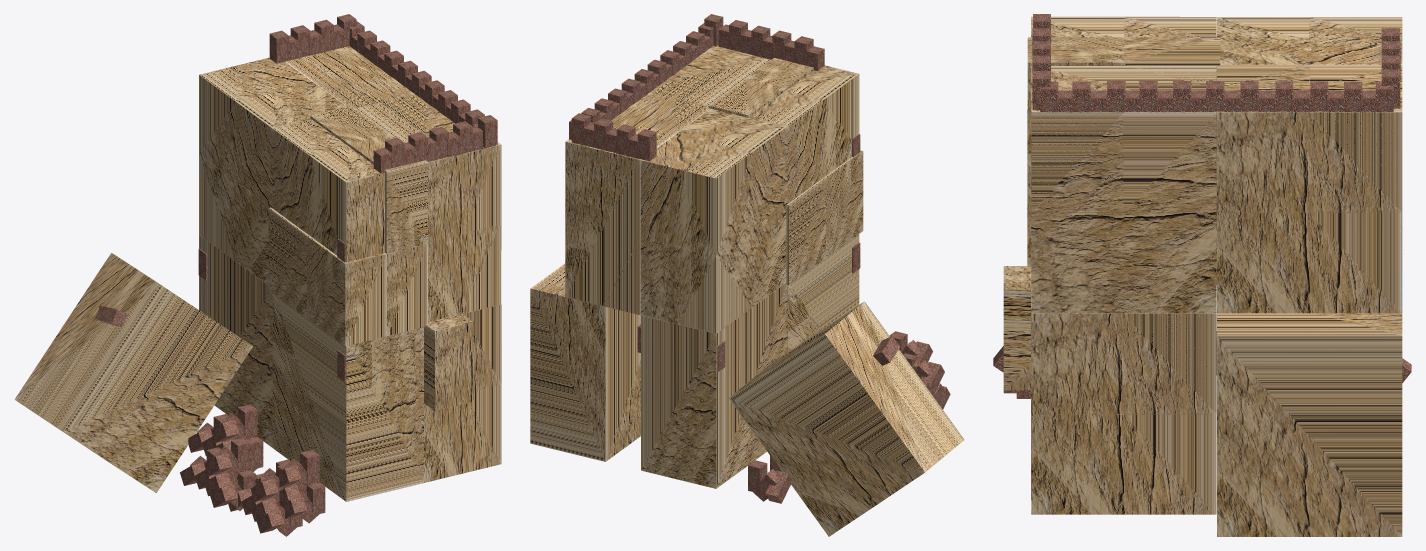
File: Sumerian_wall_semidemolished.fbx
3 renders of one model, left to right at view 1: azimuth 30°, elevation 25°; view 2: azimuth 150°, elevation 25°; view 3: azimuth 270°, elevation 25°, orthographic. The views are drawn at different scales.
Visible parts, largest first — view 1: Cube.064_cell.001, Cube.064_cell.004, Cube.064_cell.006, Cube.064_cell.003_cell.003, Cube.064_cell.003_cell.009, Cube.064_cell, Cube.064_cell.003_cell, Cube.064_cell.007_cell, Cube.064_cell.001_cell.001, Cube.064_cell.001_cell, Cube.064_cell.003_cell.012, Cube.064_cell.003_cell.014 (+18 smaller); view 2: Cube.064_cell.001, Cube.064_cell.006, Cube.064_cell.005, Cube.064_cell.002, Cube.064_cell.001_cell.001, Cube.064_cell.001_cell.003, Cube.064_cell.004, Cube.064_cell.003_cell, Cube.064_cell.001_cell.006, Cube.064_cell.001_cell, Cube.064_cell.003_cell.003, Cube.064_cell.003_cell.010 (+14 smaller); view 3: Cube.064_cell.005, Cube.064_cell.002, Cube.064_cell.002_cell.002, Cube.064_cell_cell, Cube.064_cell.007_cell.005, Cube.064_cell_cell.003, Cube.064_cell_cell.002, Cube.064_cell.007_cell.004, Cube.064_cell.007_cell.002, Cube.064_cell_cell.001, Cube.064_cell.002_cell.007, Cube.064_cell.002_cell (+30 smaller).
Part boxes in pixels (x1,y1,x2,y2): Cube.064_cell.001: [14, 253, 252, 493]; Cube.064_cell.004: [272, 294, 423, 501]; Cube.064_cell.006: [199, 234, 272, 447]; Cube.064_cell.003_cell.003: [309, 146, 384, 262]; Cube.064_cell.003_cell.009: [307, 235, 386, 346]; Cube.064_cell: [387, 94, 501, 322]; Cube.064_cell.003_cell: [272, 119, 347, 234]; Cube.064_cell.007_cell: [424, 314, 473, 410]; Cube.064_cell.001_cell.001: [199, 65, 273, 181]; Cube.064_cell.001_cell: [236, 92, 310, 207]; Cube.064_cell.003_cell.012: [348, 133, 427, 253]; Cube.064_cell.003_cell.014: [385, 244, 427, 336]; Cube.064_cell.001: [729, 301, 964, 536]; Cube.064_cell.006: [641, 283, 787, 488]; Cube.064_cell.005: [530, 263, 640, 461]; Cube.064_cell.002: [565, 98, 674, 305]; Cube.064_cell.001_cell.001: [678, 143, 751, 255]; Cube.064_cell.001_cell.003: [678, 230, 751, 333]; Cube.064_cell.004: [787, 234, 859, 352]; Cube.064_cell.003_cell: [750, 91, 823, 203]; Cube.064_cell.001_cell.006: [641, 134, 713, 246]; Cube.064_cell.001_cell: [714, 117, 787, 229]; Cube.064_cell.003_cell.003: [786, 65, 859, 176]; Cube.064_cell.003_cell.010: [786, 177, 825, 285]; Cube.064_cell.005: [1217, 313, 1402, 536]; Cube.064_cell.002: [1217, 88, 1402, 313]; Cube.064_cell.002_cell.002: [1217, 88, 1309, 212]; Cube.064_cell_cell: [1031, 88, 1123, 212]; Cube.064_cell.007_cell.005: [1031, 290, 1123, 413]; Cube.064_cell_cell.003: [1124, 112, 1216, 212]; Cube.064_cell_cell.002: [1031, 213, 1123, 313]; Cube.064_cell.007_cell.004: [1124, 313, 1216, 413]; Cube.064_cell.007_cell.002: [1124, 414, 1216, 514]; Cube.064_cell_cell.001: [1124, 213, 1216, 313]; Cube.064_cell.002_cell.007: [1309, 213, 1402, 313]; Cube.064_cell.002_cell: [1217, 213, 1309, 313].
Bounding box in the file's own units: 782 × 721 × 575.
